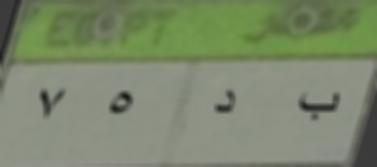5: (104, 88, 138, 122)
7: (37, 84, 70, 126)
baa: (294, 86, 344, 129)
daal: (208, 84, 240, 126)
